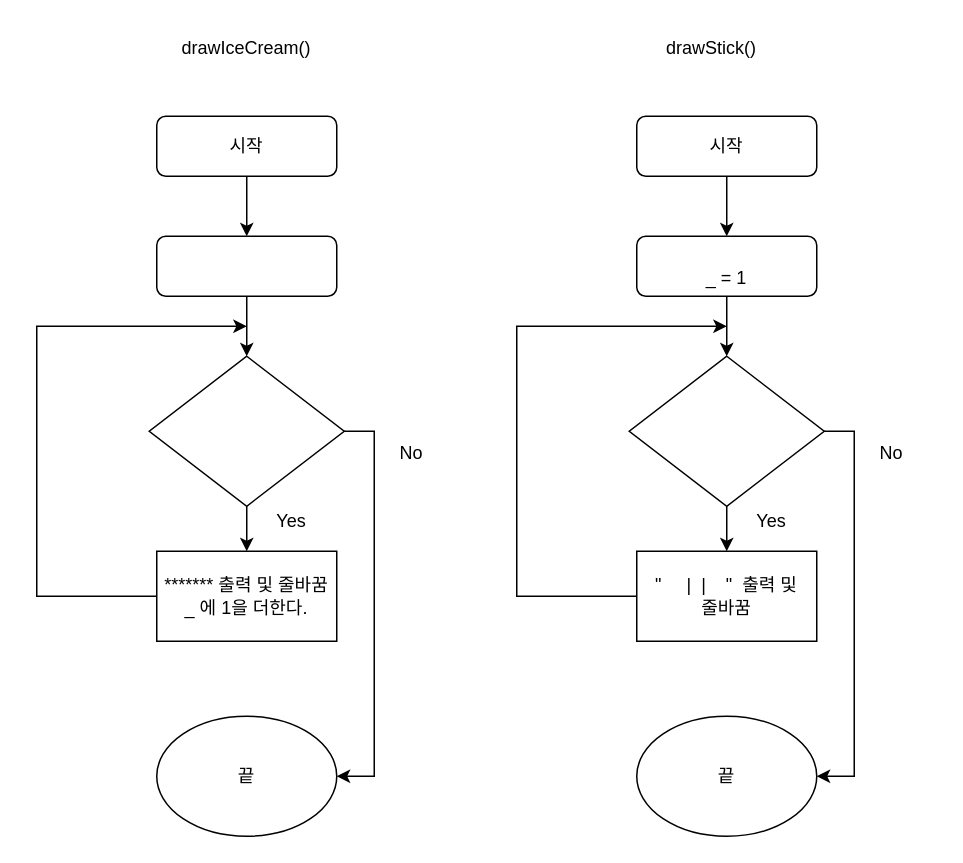
The diagram is 963 pixels wide and 863 high, and some of its shapes have lost their labels. Here are the shapes that lost their labels. From the top down, the centre of each, then its label:
At pixel 246 265: "height = 10 _ = 1".
At pixel 246 430: "_ 가 height 이하인가?".
At pixel 726 430: "_ 가 4이하인가?".
